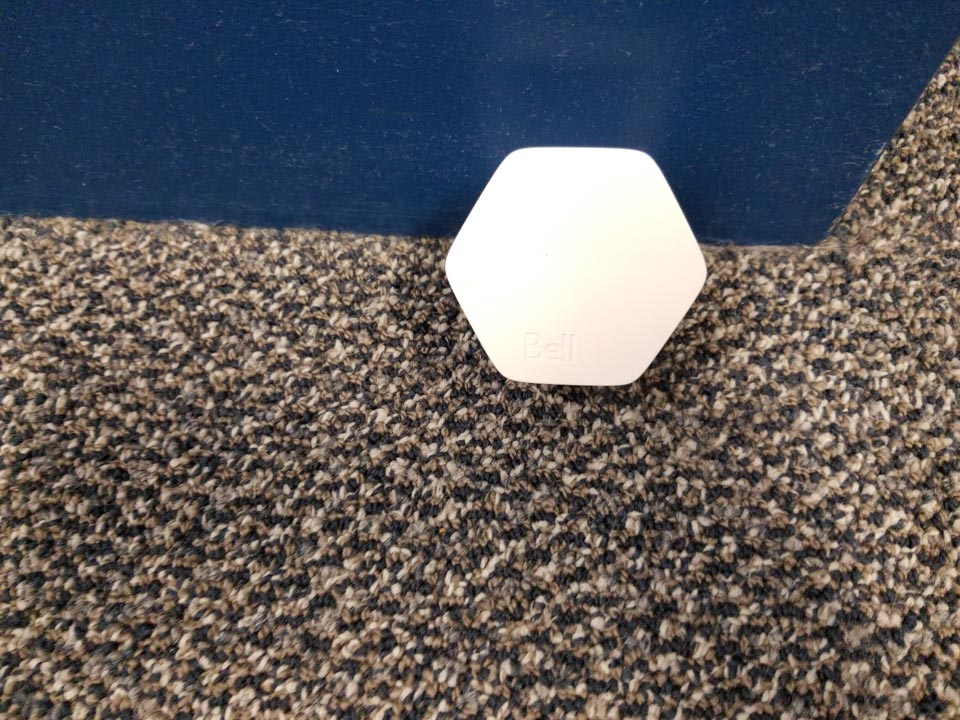pod: (436, 137, 720, 407)
